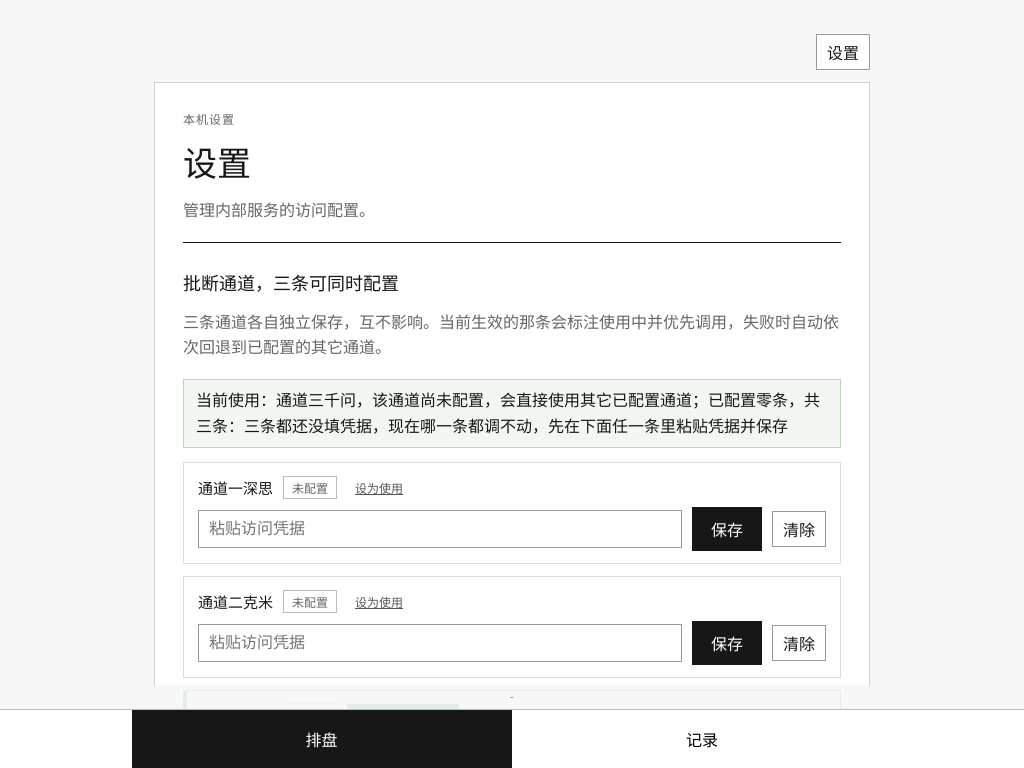
Test case: simplified chart application flow › opens the settings page when a child broadcasts mingli:open-settings
The image size is (1024, 768).
Check: the heading "批断通道，三条可同时配置" is shown, box [183, 274, 399, 294]
// 设置打开后切到别的分页要能回到正常导航
Click the button "记录" at (702, 739), box [512, 710, 892, 767]
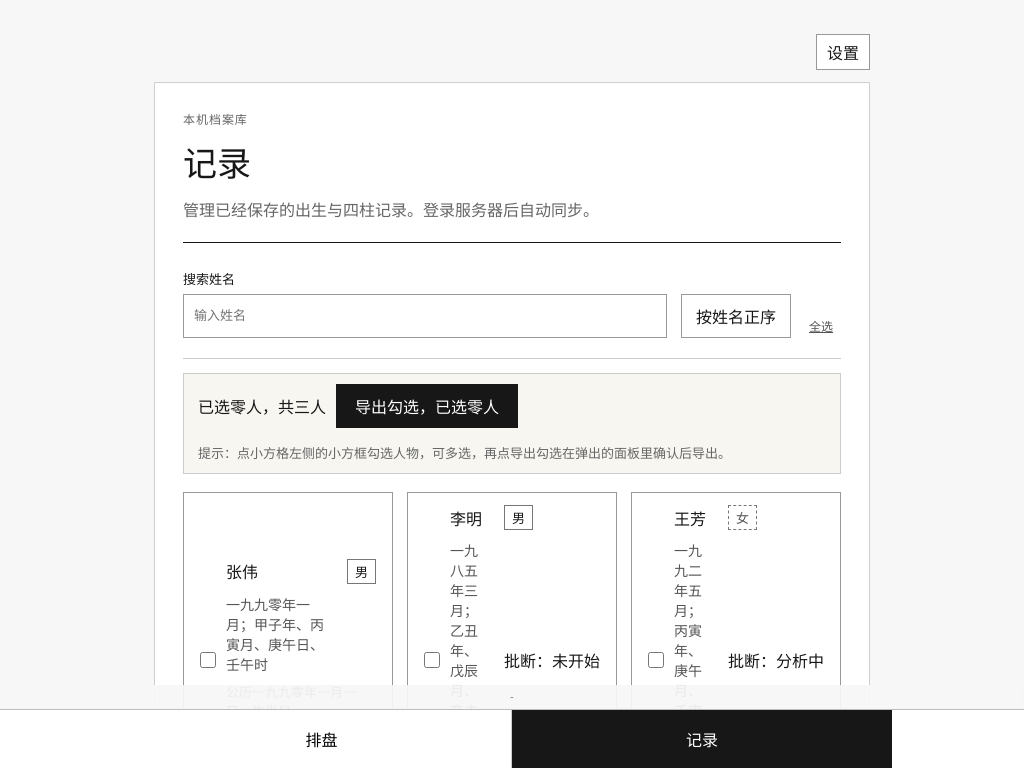
Check: the heading "记录" is shown, box [183, 145, 251, 183]
